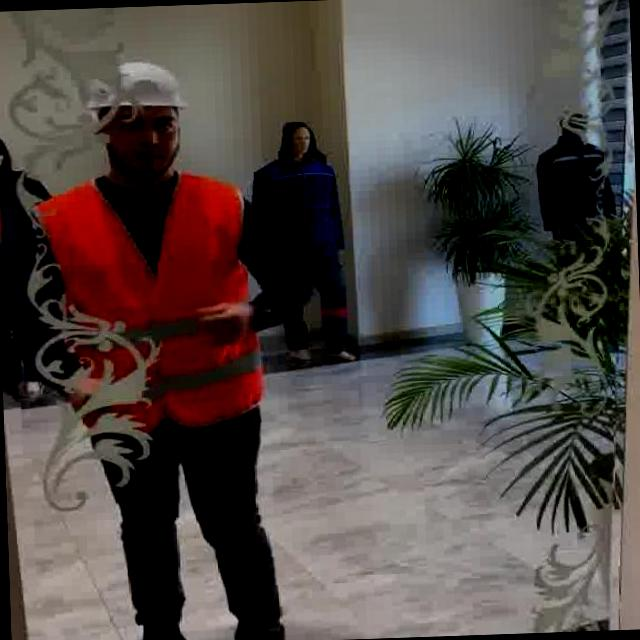helmet: (80, 58, 187, 111)
no-gloves: (190, 287, 254, 364)
vest: (24, 166, 268, 434)
